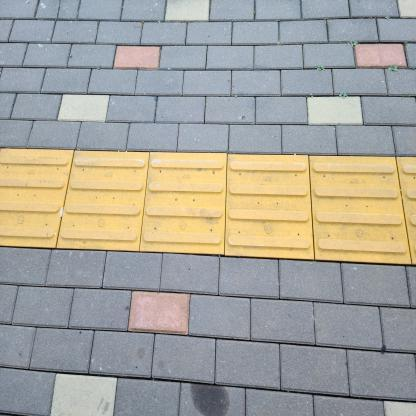podotacti: (0, 142, 415, 275)
